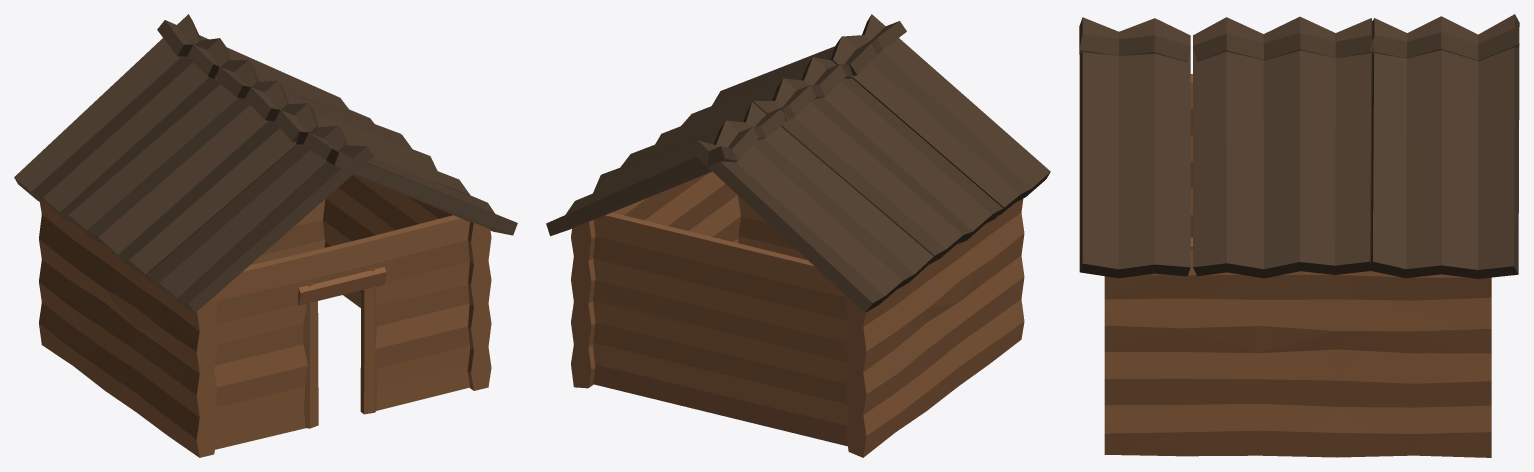
The model's file is pirates_shack.fbx.
3 views of the same model, side by side, from view 1: azimuth 30°, elevation 25°; view 2: azimuth 150°, elevation 25°; view 3: azimuth 270°, elevation 25° (orthographic). The views are drawn at different scales.
Visible parts, largest first — view 1: pirates_shack; view 2: pirates_shack; view 3: pirates_shack.
Part boxes in pixels (box(x1,y1,x2,y2)): pirates_shack: box(14, 14, 517, 457); pirates_shack: box(546, 14, 1050, 457); pirates_shack: box(1079, 14, 1519, 457).
Size of the model in its own units: 200 by 164 by 187.
